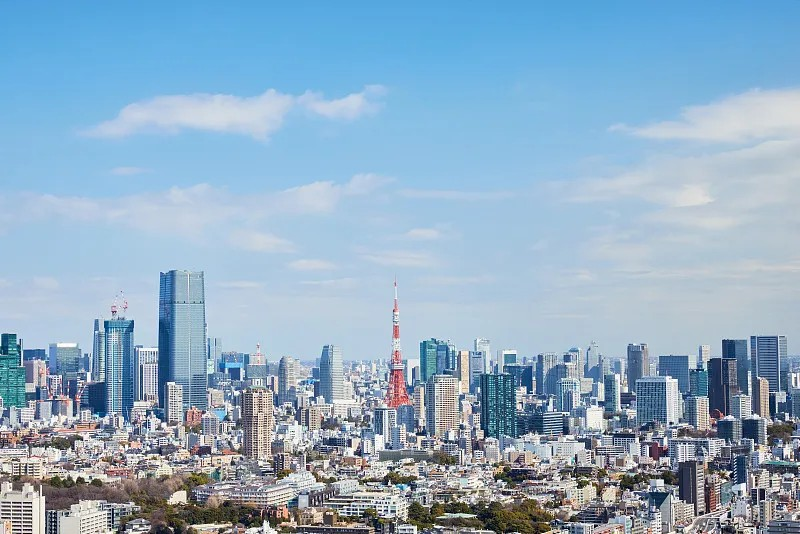Tokyo: (384, 274, 412, 408)
